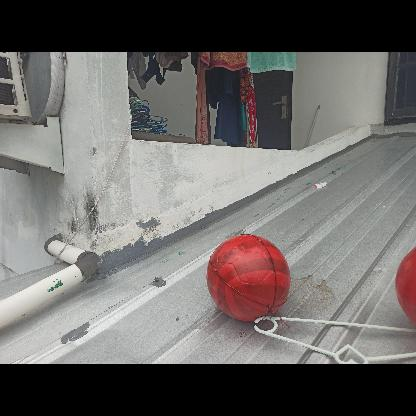red_ball: (209, 237, 292, 320)
